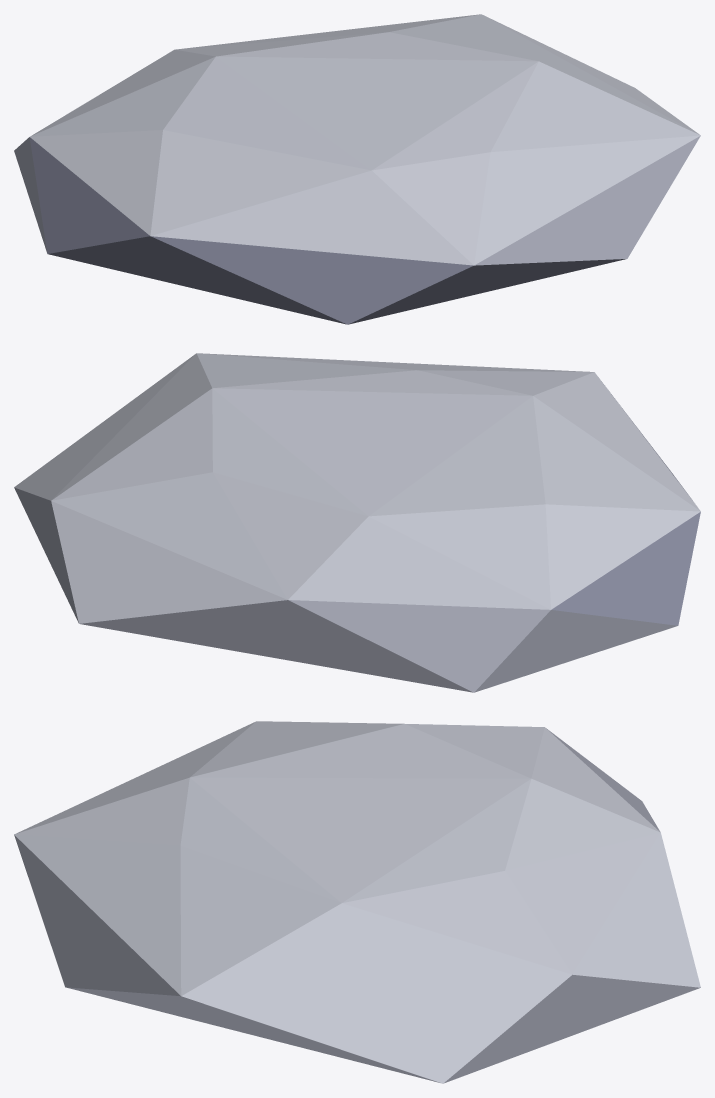
File: stone_smallFlatB.glb
3 views of the same model, one above another, from view 1: azimuth 30°, elevation 25°; view 2: azimuth 150°, elevation 25°; view 3: azimuth 270°, elevation 25° (orthographic). The views are drawn at different scales.
Visible parts, largest first — view 1: stone_smallFlatB; view 2: stone_smallFlatB; view 3: stone_smallFlatB.
Boxes of the visible parts, box(x1,y1,x2,y2) form: stone_smallFlatB: box(14, 14, 700, 324); stone_smallFlatB: box(14, 353, 700, 692); stone_smallFlatB: box(14, 721, 700, 1083).
Bounding box in the file's own units: 0.3937 × 0.0588 × 0.351.
1 material, 1 textured.
